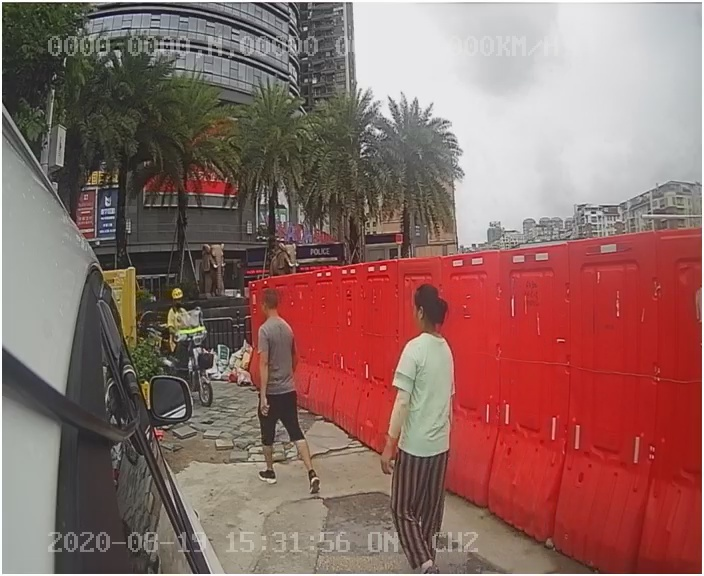person: (373, 279, 470, 527), (236, 291, 336, 502)
